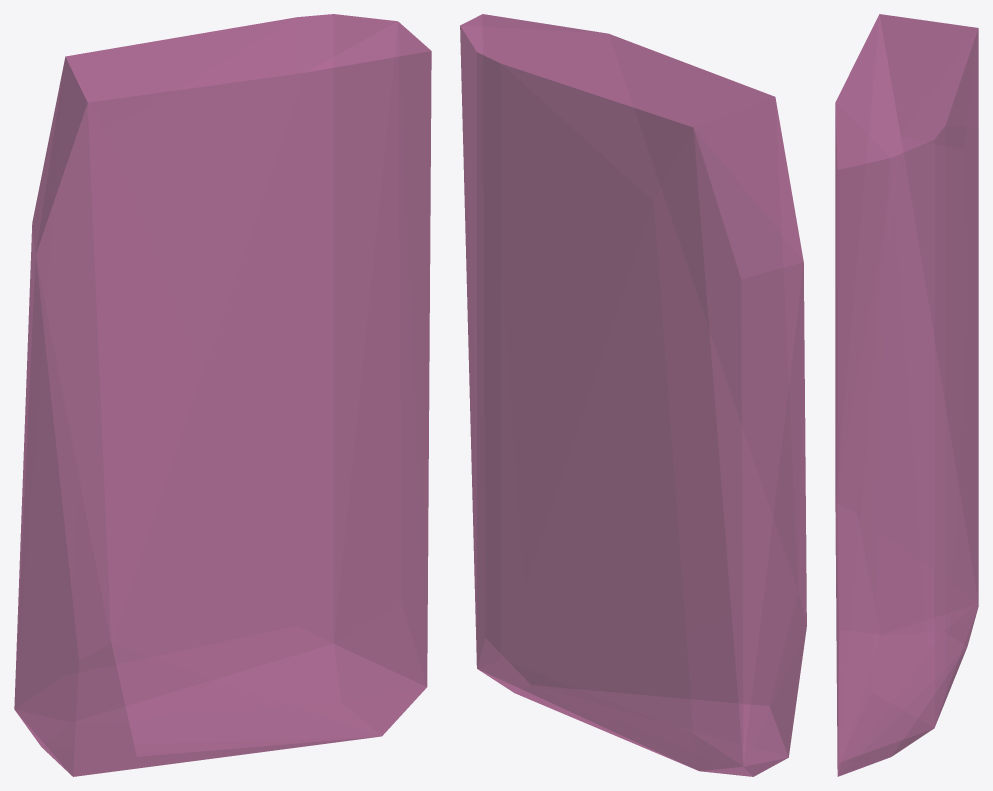
3 views of the same model, side by side, from view 1: azimuth 30°, elevation 25°; view 2: azimuth 150°, elevation 25°; view 3: azimuth 270°, elevation 25° (orthographic). The views are drawn at different scales.
Visible parts, largest first — view 1: Shape_IndexedFaceSet.007_Shape_IndexedFaceSet.18230; view 2: Shape_IndexedFaceSet.007_Shape_IndexedFaceSet.18230; view 3: Shape_IndexedFaceSet.007_Shape_IndexedFaceSet.18230.
Boxes of the visible parts, <box> form: Shape_IndexedFaceSet.007_Shape_IndexedFaceSet.18230: <box>14,14,431,776</box>; Shape_IndexedFaceSet.007_Shape_IndexedFaceSet.18230: <box>460,14,806,776</box>; Shape_IndexedFaceSet.007_Shape_IndexedFaceSet.18230: <box>835,14,978,776</box>.
Bounding box in the file's own units: 0.1911 × 0.345 × 0.07.
